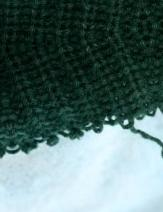snag: (115, 107, 163, 155)
